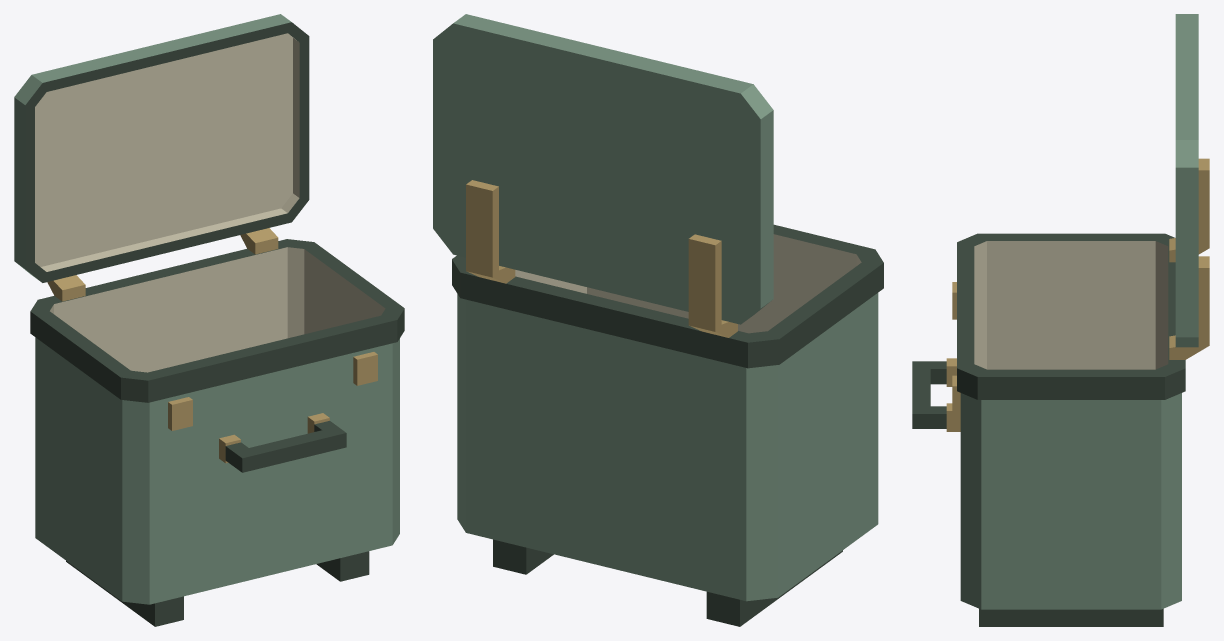
3 renders of one model, left to right at view 1: azimuth 30°, elevation 25°; view 2: azimuth 150°, elevation 25°; view 3: azimuth 270°, elevation 25°, orthographic. The views are drawn at different scales.
Visible parts, largest first — view 1: DeepCase_ContinuousSteppedShell, SingleUprightCover_ContinuousRecessedShell, OneContinuousOpenFrontGrip, Left_WholeGroundSkid, Right_WholeGroundSkid, Right_FixedBlankClaspPlate, Left_FixedBlankClaspPlate, Left_FixedRearCoverCheek, Right_FixedRearCoverCheek; view 2: DeepCase_ContinuousSteppedShell, SingleUprightCover_ContinuousRecessedShell, Left_FixedRearCoverCheek, Right_FixedRearCoverCheek, Left_WholeGroundSkid, Right_WholeGroundSkid; view 3: DeepCase_ContinuousSteppedShell, SingleUprightCover_ContinuousRecessedShell, Right_WholeGroundSkid, OneContinuousOpenFrontGrip, Right_FixedRearCoverCheek, Left_FixedRearCoverCheek.
Part boxes in pixels (box(x1,y1,x2,y2)): DeepCase_ContinuousSteppedShell: box(30, 239, 404, 604); SingleUprightCover_ContinuousRecessedShell: box(14, 14, 309, 282); OneContinuousOpenFrontGrip: box(225, 420, 346, 472); Left_WholeGroundSkid: box(66, 561, 183, 626); Right_WholeGroundSkid: box(316, 551, 369, 581); Right_FixedBlankClaspPlate: box(353, 352, 377, 385); Left_FixedBlankClaspPlate: box(168, 397, 192, 430); Left_FixedRearCoverCheek: box(47, 275, 85, 301); Right_FixedRearCoverCheek: box(240, 228, 278, 254); DeepCase_ContinuousSteppedShell: box(452, 224, 883, 601); SingleUprightCover_ContinuousRecessedShell: box(433, 14, 773, 324); Left_FixedRearCoverCheek: box(688, 234, 737, 337); Right_FixedRearCoverCheek: box(466, 180, 515, 283); Left_WholeGroundSkid: box(706, 550, 842, 626); Right_WholeGroundSkid: box(493, 539, 553, 574); DeepCase_ContinuousSteppedShell: box(957, 233, 1185, 609); SingleUprightCover_ContinuousRecessedShell: box(1175, 14, 1198, 347); Right_WholeGroundSkid: box(979, 608, 1163, 626); OneContinuousOpenFrontGrip: box(912, 361, 946, 428); Right_FixedRearCoverCheek: box(1169, 256, 1209, 359); Left_FixedRearCoverCheek: box(1169, 158, 1209, 262).
Size of the model in its own units: 0.736 by 1.19 by 0.645.
